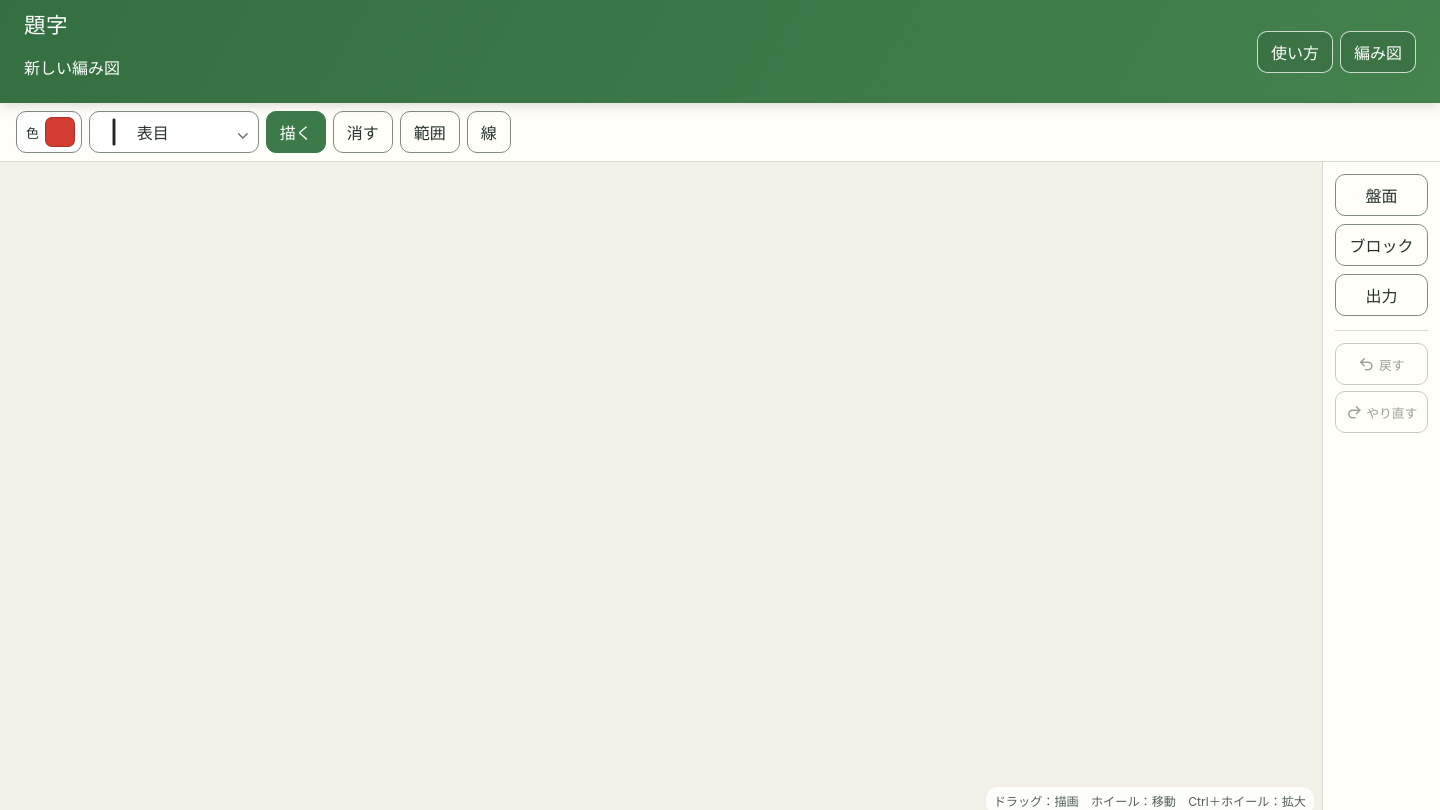
EditorView › shows stitch width in stitches and height in rows
Click the button with class "stitch-tool": (174, 132) [89,111,259,153]
(page scrolled)
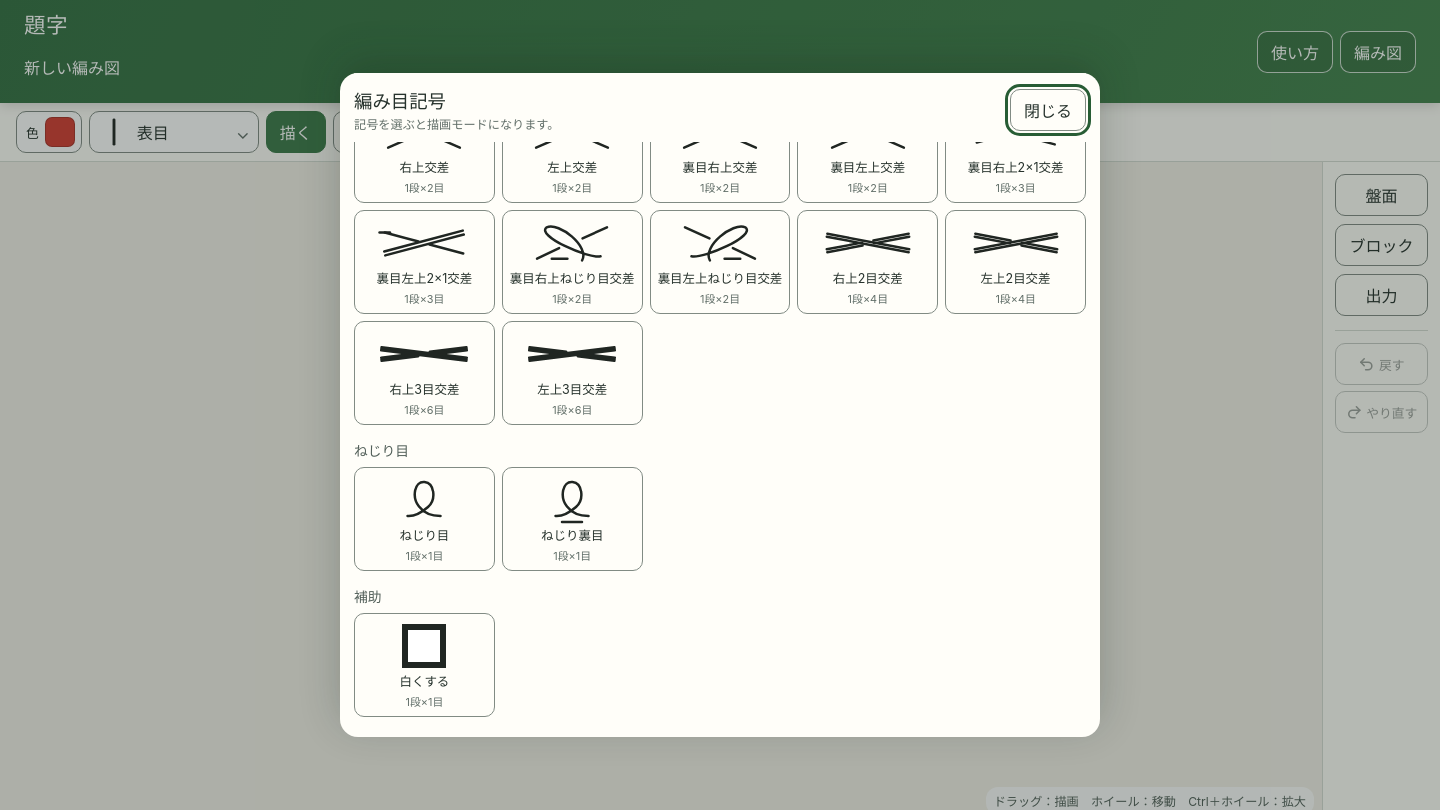
Expected: the 1st text "1段×6目" is shown, [404,401,444,417]
